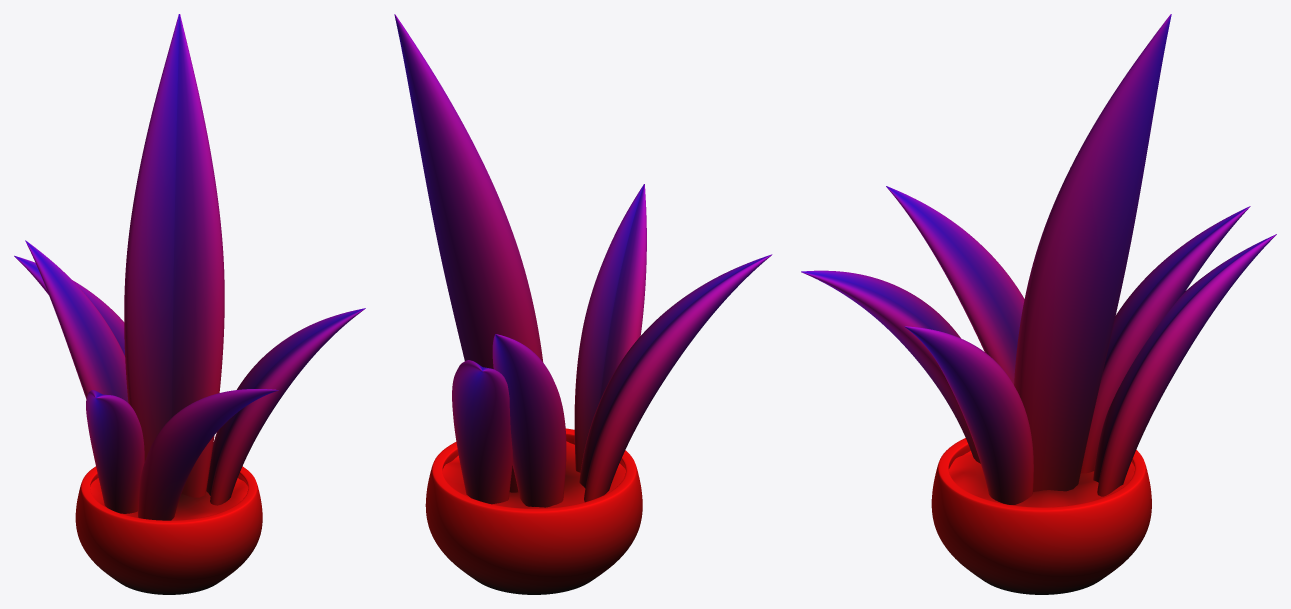
File: Stylized_potted_plant_1.fbx
The picture shows the model from 3 angles, left to right: view 1: azimuth 30°, elevation 25°; view 2: azimuth 150°, elevation 25°; view 3: azimuth 270°, elevation 25°; orthographic projection. The views are drawn at different scales.
Parts seen in each view (by area): view 1: Stylized_potted_plant; view 2: Stylized_potted_plant; view 3: Stylized_potted_plant.
Part boxes in pixels (bbox=[...]): Stylized_potted_plant: bbox=[14, 14, 365, 594]; Stylized_potted_plant: bbox=[394, 14, 772, 594]; Stylized_potted_plant: bbox=[801, 14, 1276, 594].
Bounding box in the file's own units: 113 × 195 × 143.
